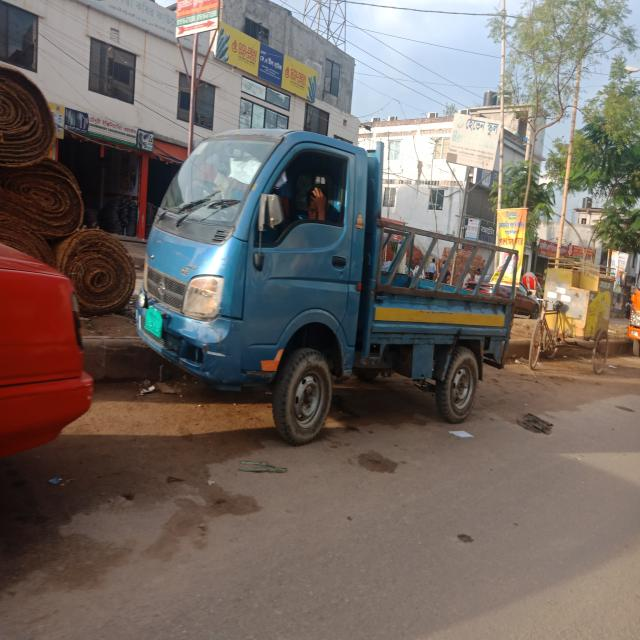truck: (135, 128, 519, 447)
